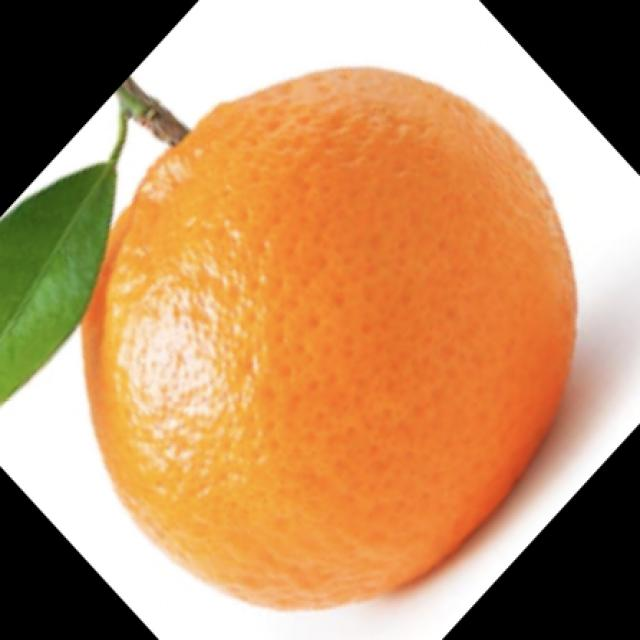fresh: (54, 38, 592, 616)
